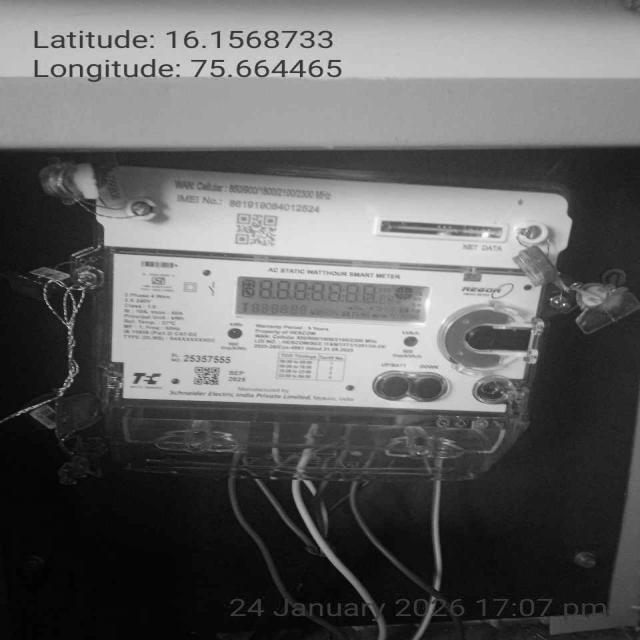meter: (104, 170, 572, 412)
